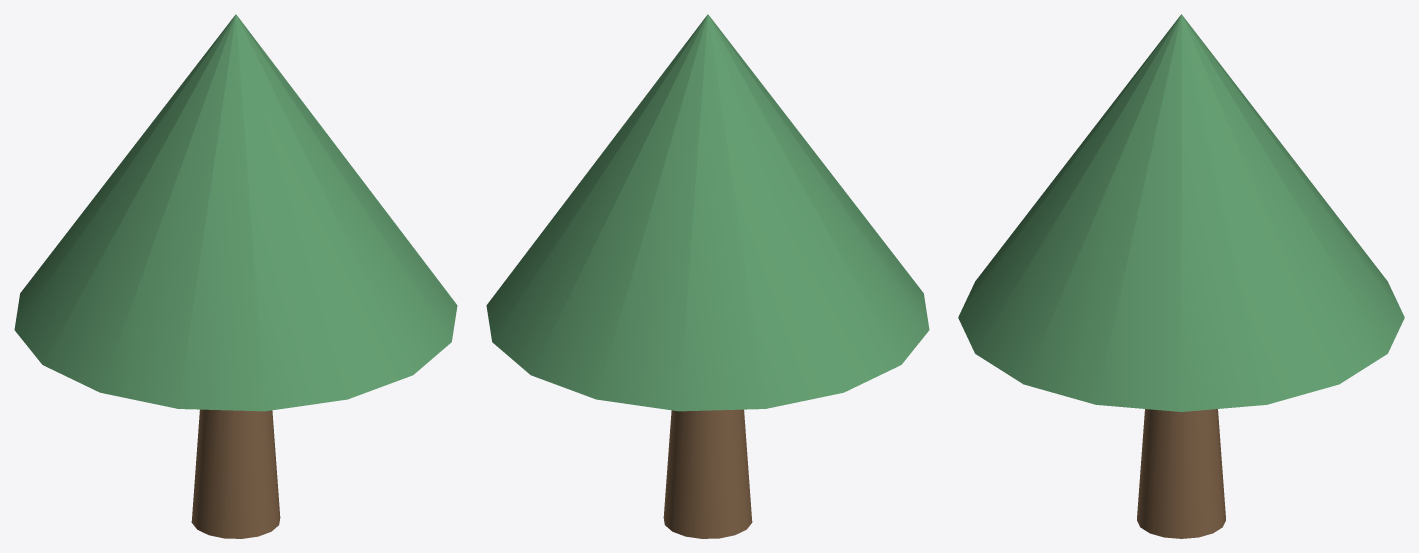
File: tree.gltf
3 renders of one model, left to right at view 1: azimuth 30°, elevation 25°; view 2: azimuth 150°, elevation 25°; view 3: azimuth 270°, elevation 25°, orthographic.
Parts seen in each view (by area): view 1: Leaves, Trunk; view 2: Leaves, Trunk; view 3: Leaves, Trunk.
Boxes of the visible parts, x1,y1,x2,y2 form: Leaves: (14, 14, 457, 411); Trunk: (191, 409, 280, 538); Leaves: (486, 14, 929, 411); Trunk: (663, 409, 752, 538); Leaves: (958, 14, 1404, 411); Trunk: (1137, 409, 1225, 538).
Size of the model in its own units: 1.2 by 1.5 by 1.2.
